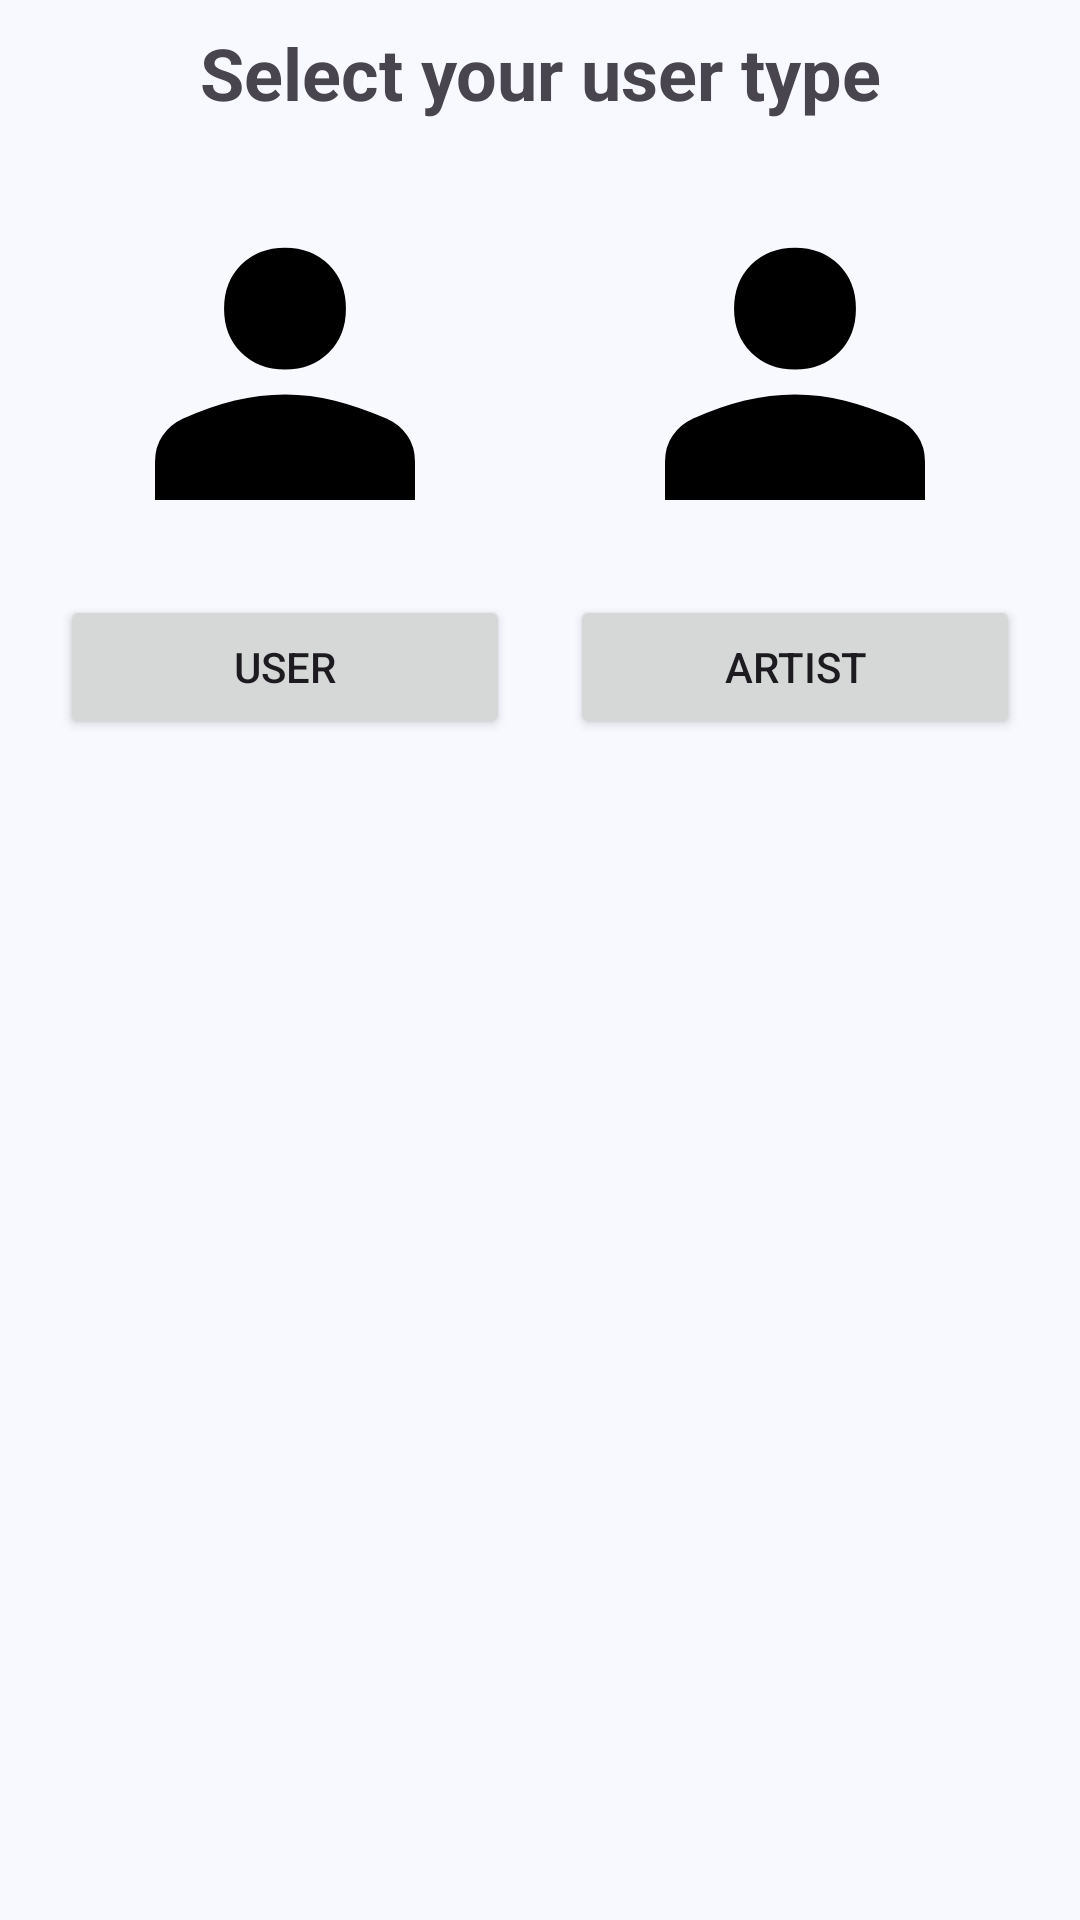

Point at icon controls on the screen. Image size 1080w x 1920h, points as (x=x, y=y).
person: (x=285, y=373), (x=795, y=373)
